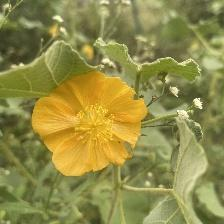indian mallow: (36, 75, 149, 178)
